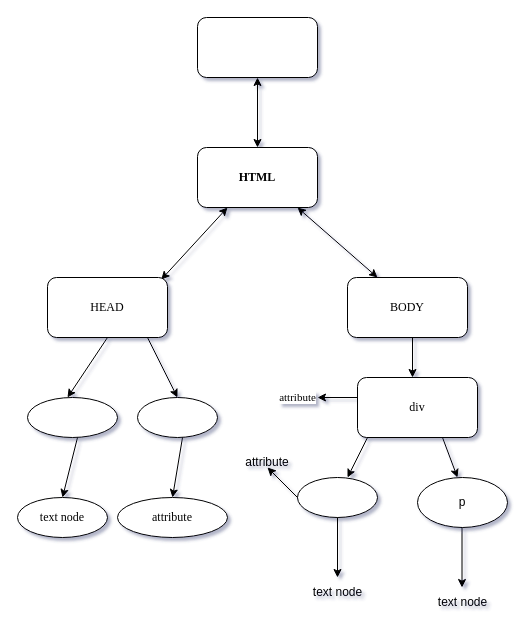
Some shapes in this 531 by 641 pixel diagram are drawn without their labels. The centre of each missing label's shape, as x and y in pixels:
h1: the point at 337,497
meta: the point at 177,417
title: the point at 72,417
Window: the point at 257,47
